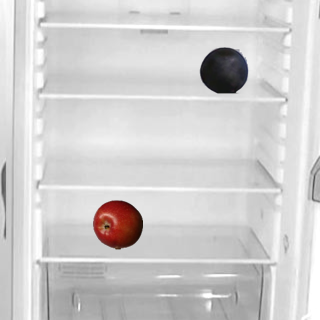Apple Braeburn: (92, 199, 142, 249)
Grape Blue: (198, 44, 248, 94)
